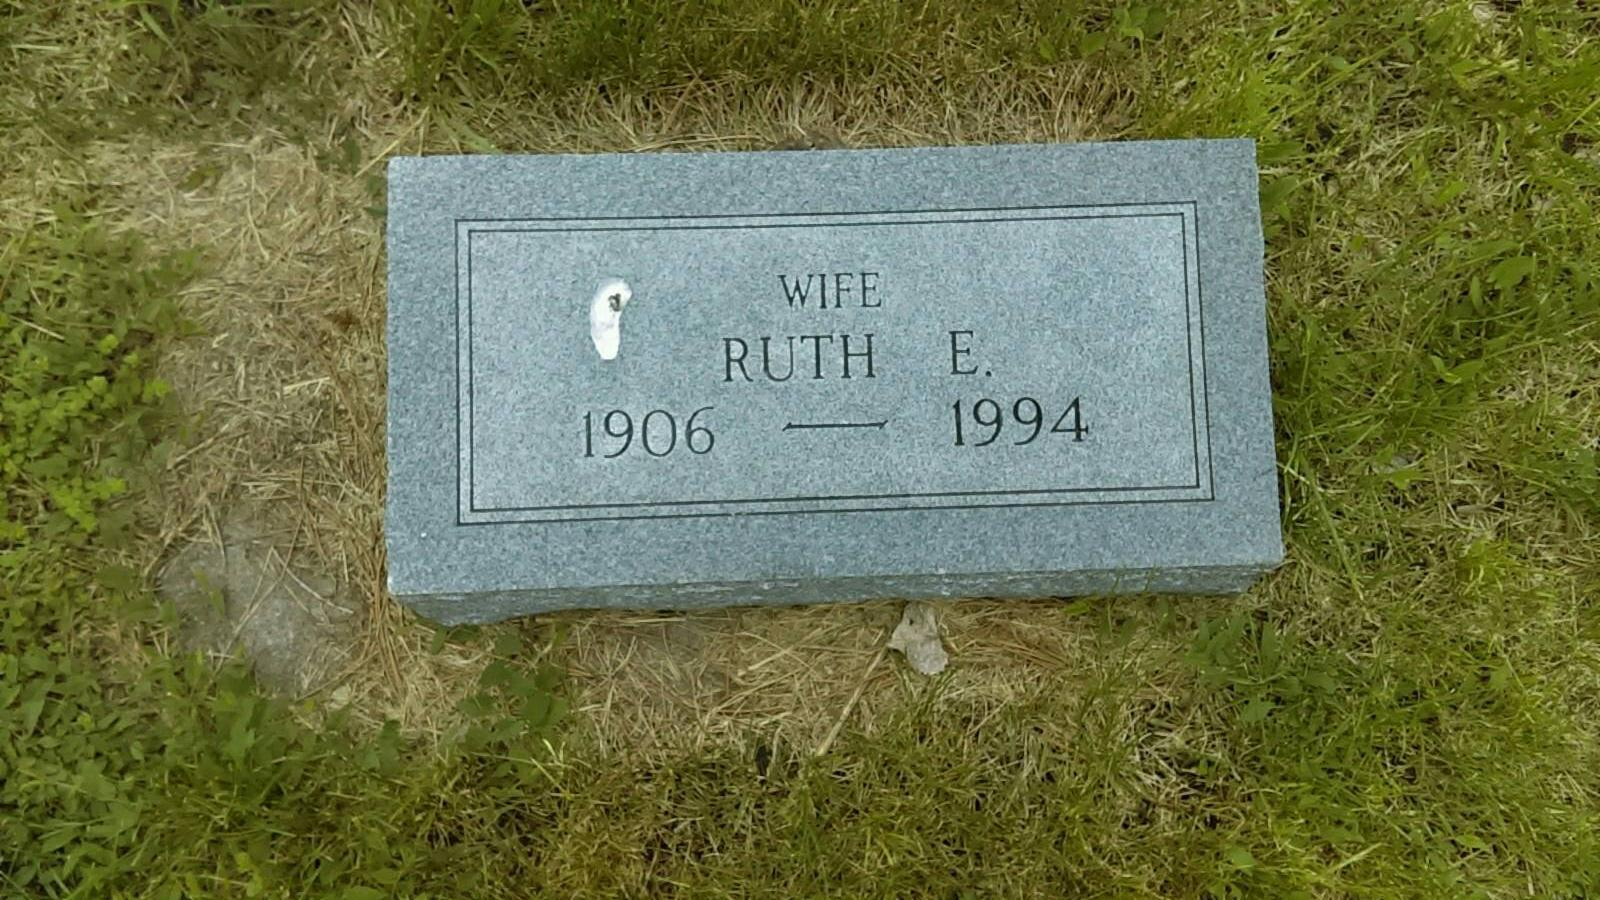flat: (379, 133, 1285, 620)
